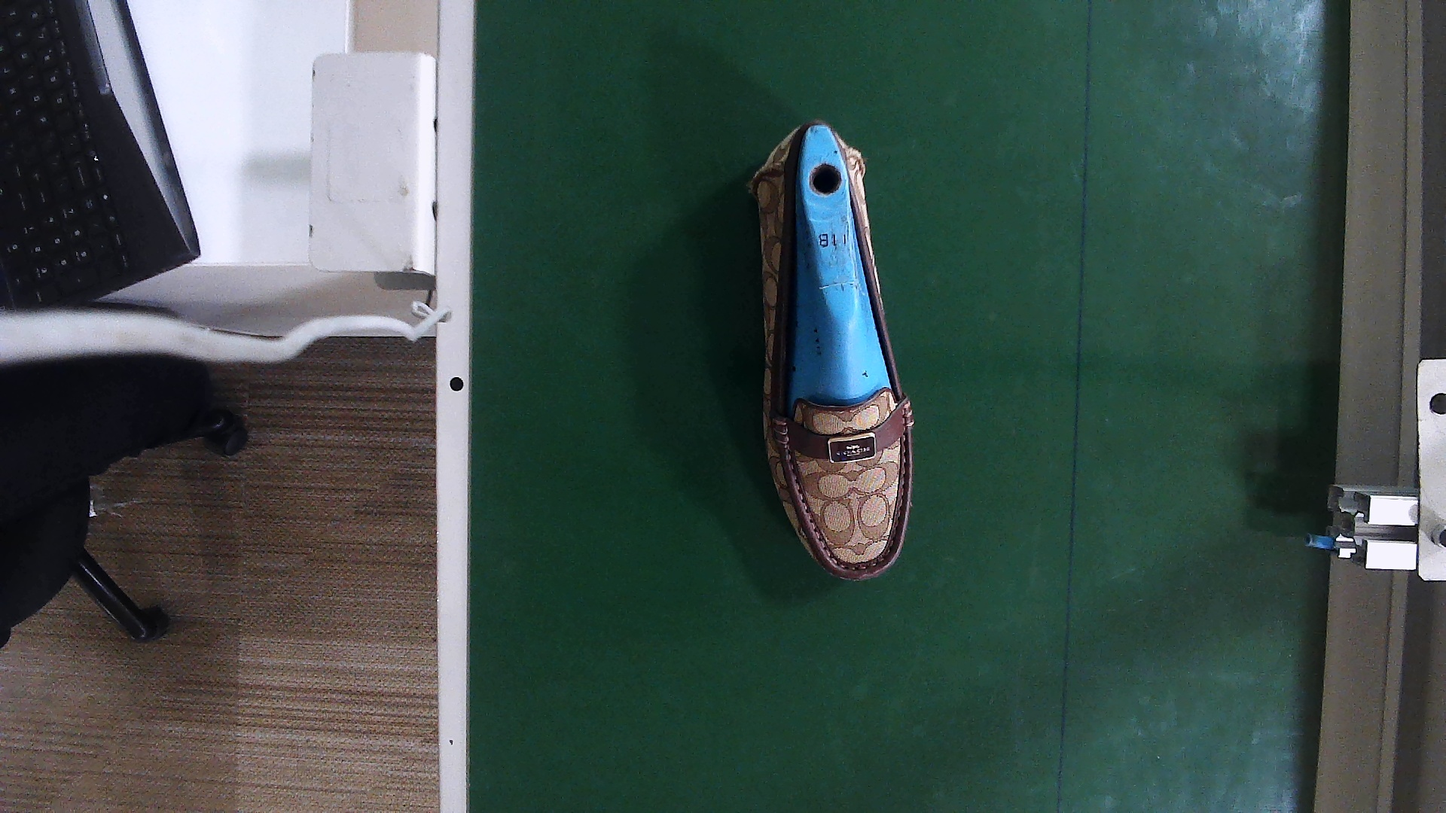shoe: (755, 124, 911, 579)
